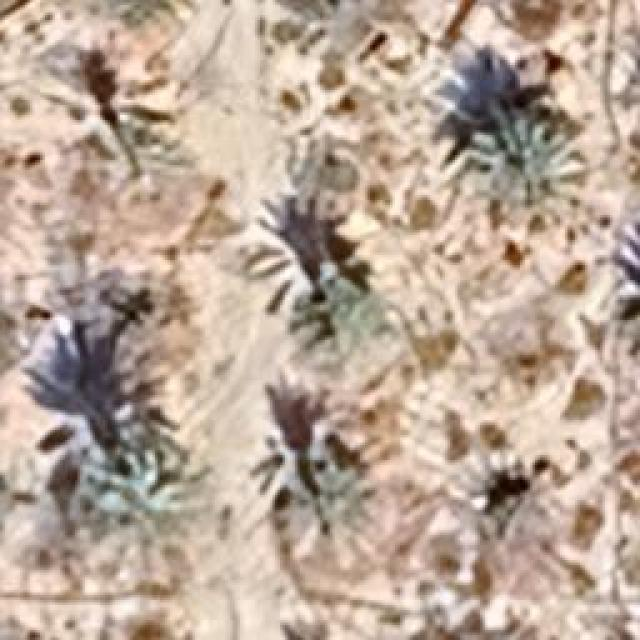PalmTree: (68, 450, 202, 595), (462, 110, 590, 240), (271, 420, 389, 540), (55, 35, 150, 173), (240, 222, 365, 320), (465, 448, 543, 528), (95, 0, 203, 30)
